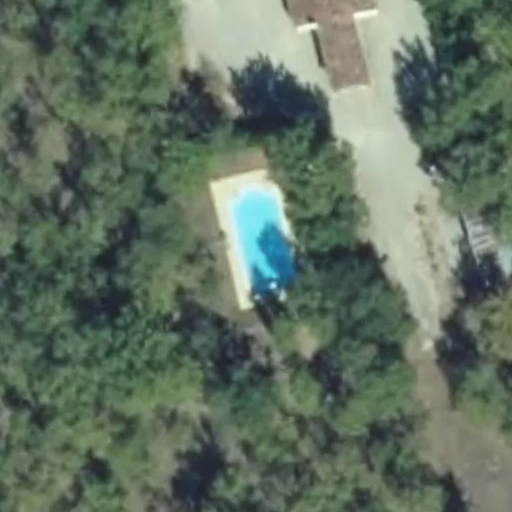pool: (210, 196, 295, 282)
